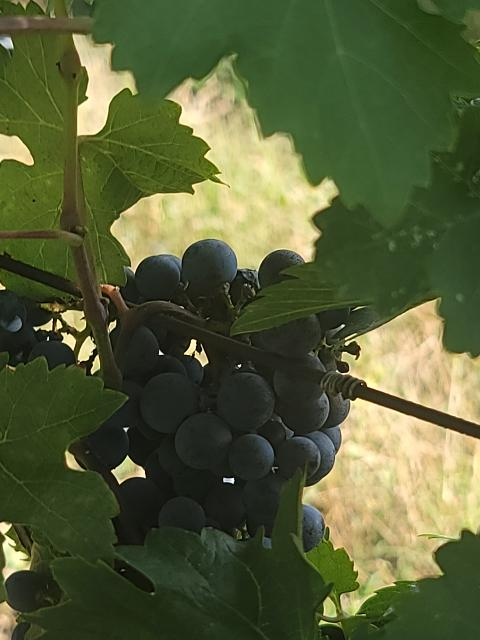grapes: (88, 326, 350, 540), (138, 239, 302, 334), (241, 310, 349, 372)
